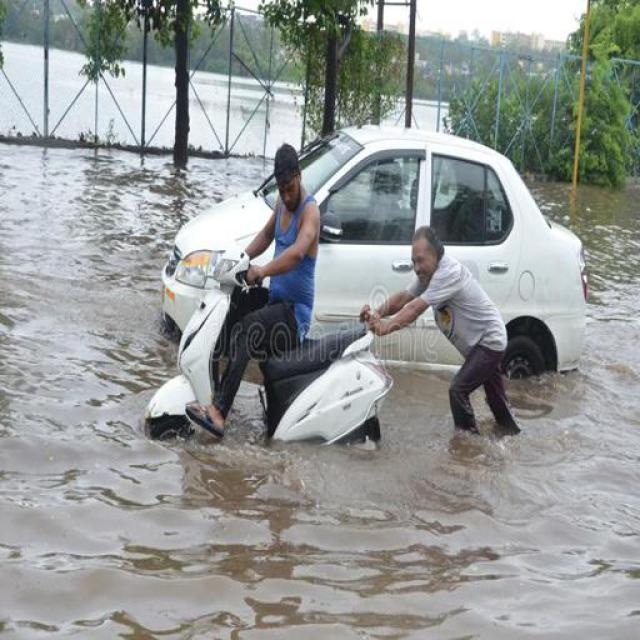puddle: (137, 452, 640, 640), (3, 141, 157, 640), (592, 186, 640, 640)
